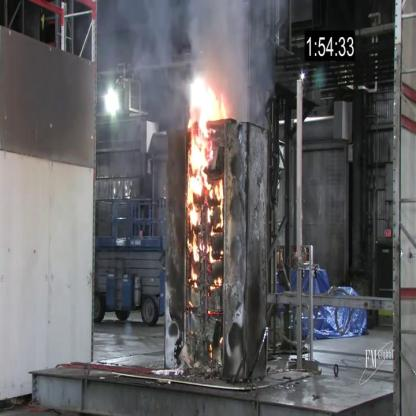fire: (185, 86, 226, 302)
